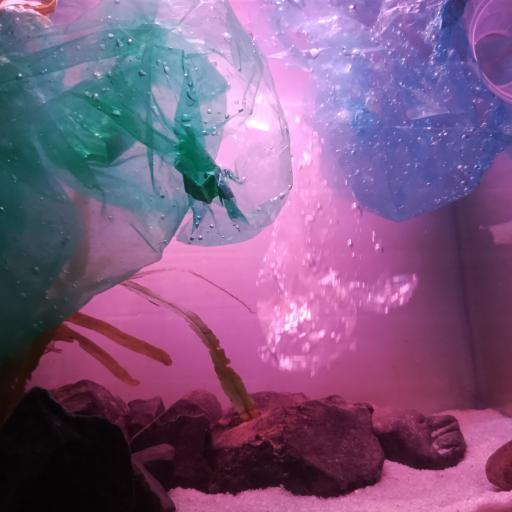plastic_bag: (1, 0, 293, 367), (252, 0, 459, 367), (265, 0, 512, 224)
plastic_cup: (469, 0, 512, 104)
